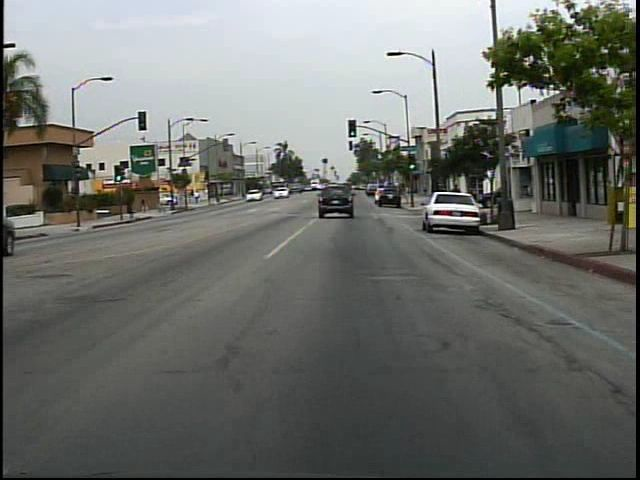person: (446, 179, 466, 217), (136, 191, 155, 220), (194, 188, 203, 207)
